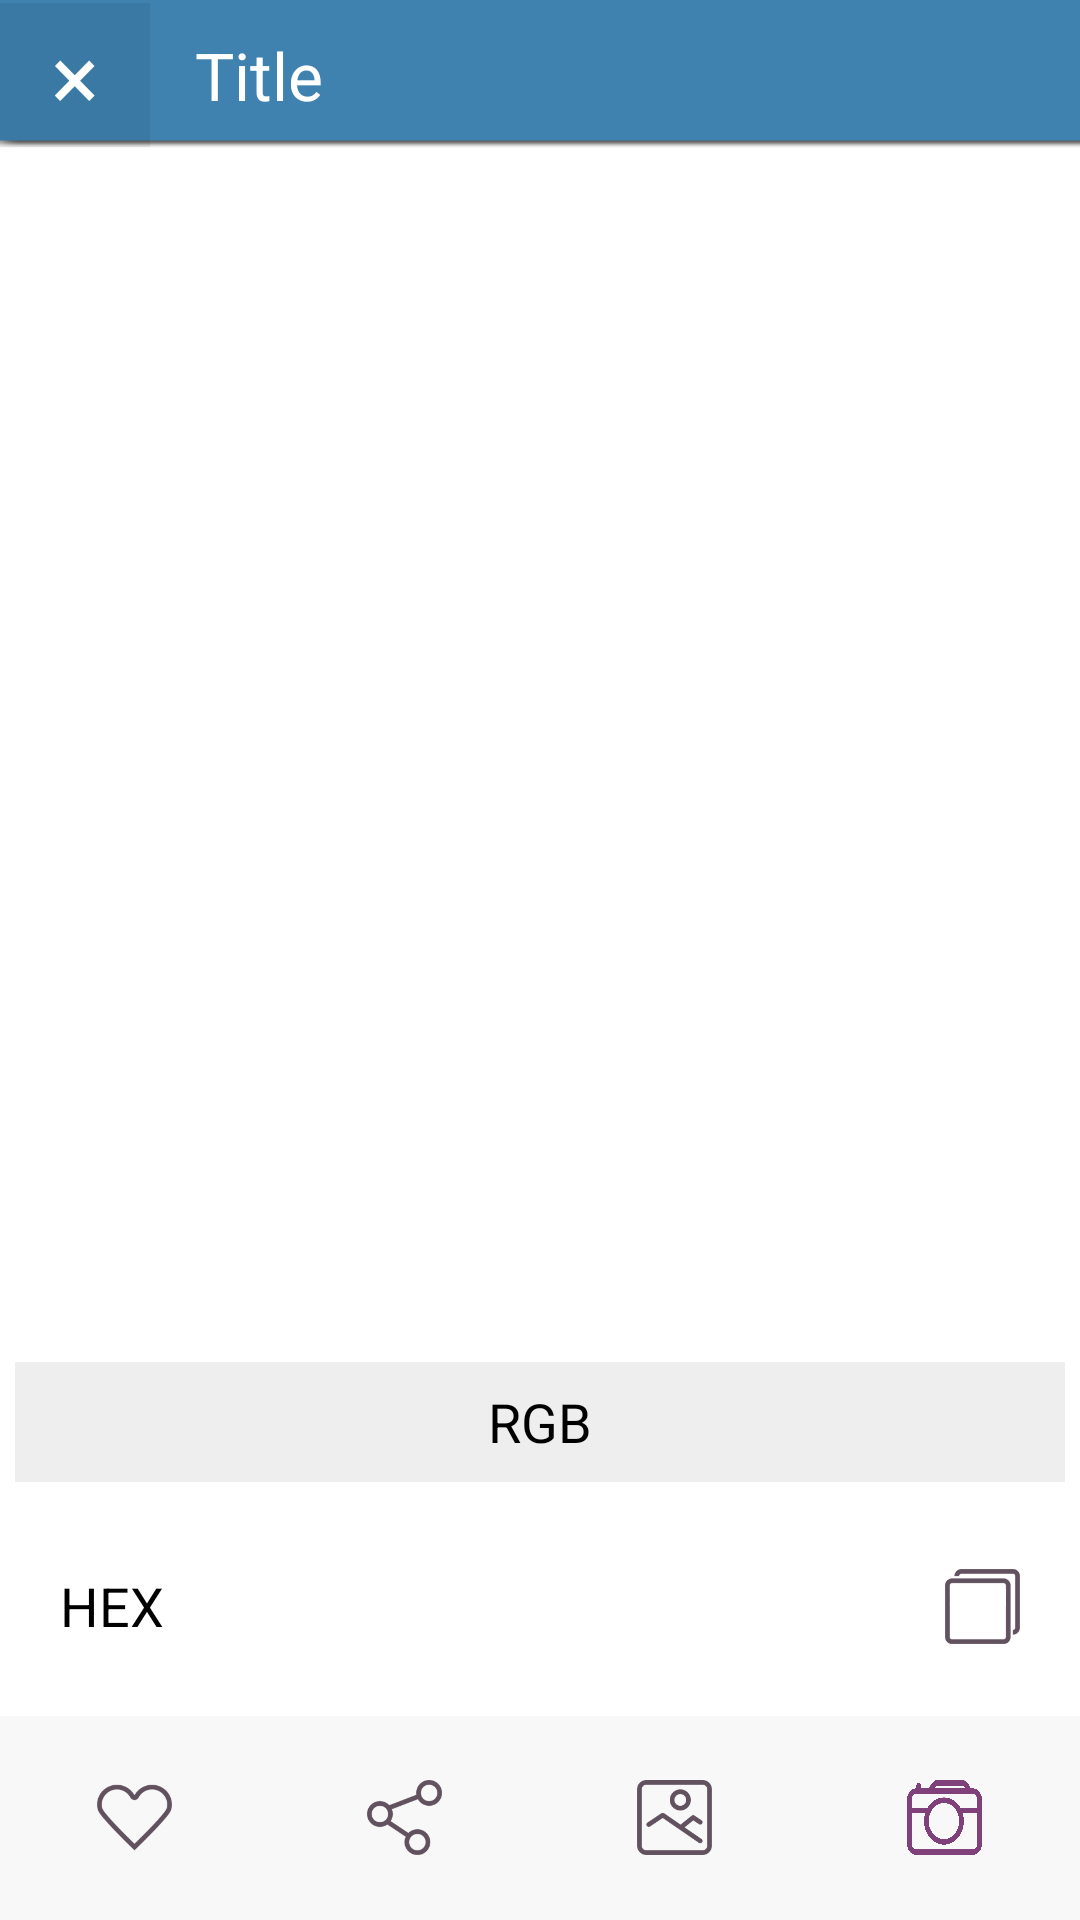

Named icons in this screenshot (1080 x 1920) and their bounding boxes, (x1, y1, x2, y2):
camera: (907, 1780, 982, 1855)
collect: (97, 1785, 172, 1850)
share: (367, 1780, 442, 1855)
